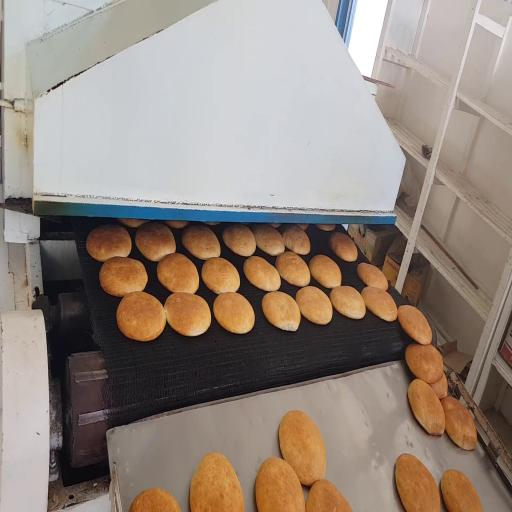bread: (279, 411, 326, 486), (190, 453, 243, 511), (256, 458, 305, 511), (395, 454, 440, 511), (117, 292, 166, 341), (164, 293, 211, 336), (408, 379, 444, 435), (441, 397, 477, 450), (100, 257, 147, 296), (441, 470, 482, 511), (157, 253, 199, 293), (87, 225, 131, 262), (214, 293, 254, 333), (135, 222, 175, 261), (262, 292, 300, 331), (406, 343, 443, 383), (306, 480, 352, 511), (202, 258, 240, 294), (296, 286, 332, 324), (398, 305, 432, 344), (182, 225, 220, 259), (244, 256, 280, 291), (276, 251, 310, 287), (361, 287, 397, 321), (129, 488, 180, 511), (330, 286, 365, 319), (222, 224, 255, 256), (309, 255, 341, 288), (252, 225, 284, 255), (357, 263, 388, 291), (282, 225, 310, 255), (329, 232, 357, 261), (430, 374, 447, 399), (118, 219, 148, 228), (164, 220, 189, 228), (316, 224, 335, 231), (268, 223, 281, 228), (298, 224, 308, 230), (205, 222, 219, 226)
